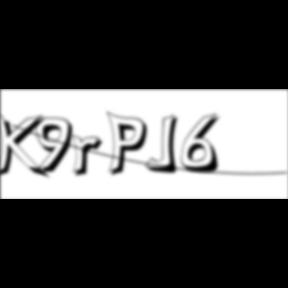6: (182, 112, 226, 176)
9: (36, 117, 80, 177)
J: (145, 114, 184, 176)
K: (0, 110, 52, 182)
P: (106, 110, 154, 180)
r: (71, 134, 109, 180)
